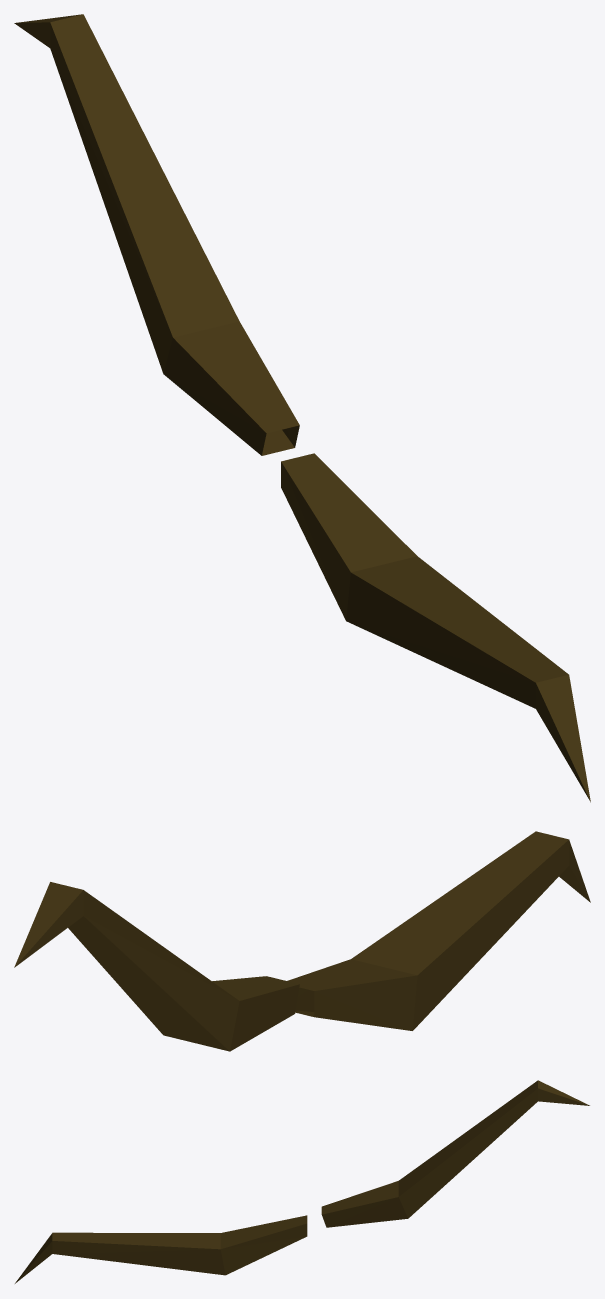
Rendered from itm_model0_yew_shortbow.obj.
3 renders of one model, top to bottom at view 1: azimuth 30°, elevation 25°; view 2: azimuth 150°, elevation 25°; view 3: azimuth 270°, elevation 25°, orthographic. The views are drawn at different scales.
Size of the model in its own units: 0.0625 by 0.3594 by 0.9375.
